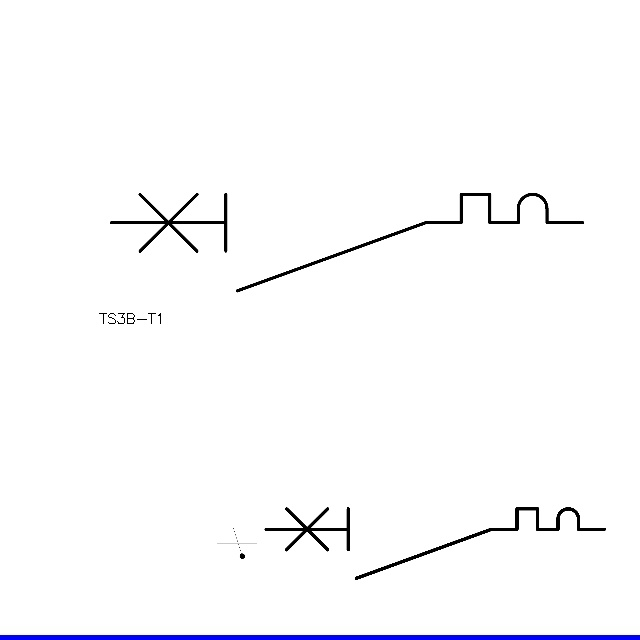interruptor_termomagnetico: (99, 182, 595, 303), (257, 500, 612, 587)
